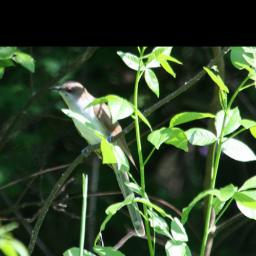Cuckoo: (46, 81, 146, 236)
